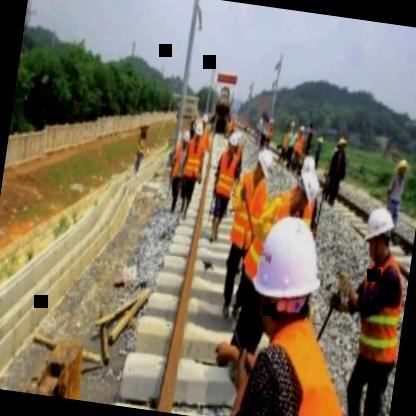helmet: (240, 209, 336, 340), (358, 200, 399, 264), (290, 165, 324, 210), (249, 146, 276, 188), (224, 128, 240, 156), (189, 122, 205, 148)
